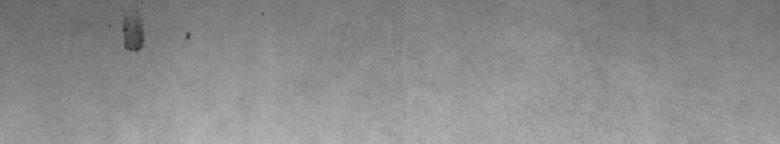fi: (106, 18, 192, 60)
